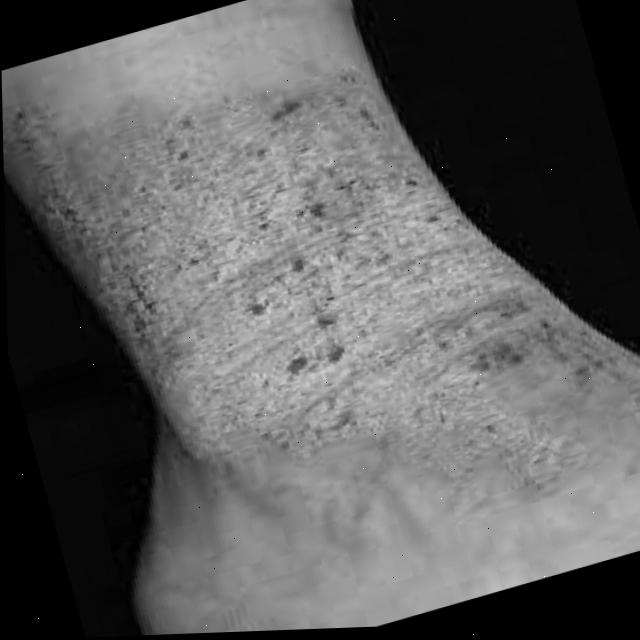Eczema: (21, 83, 521, 547)
